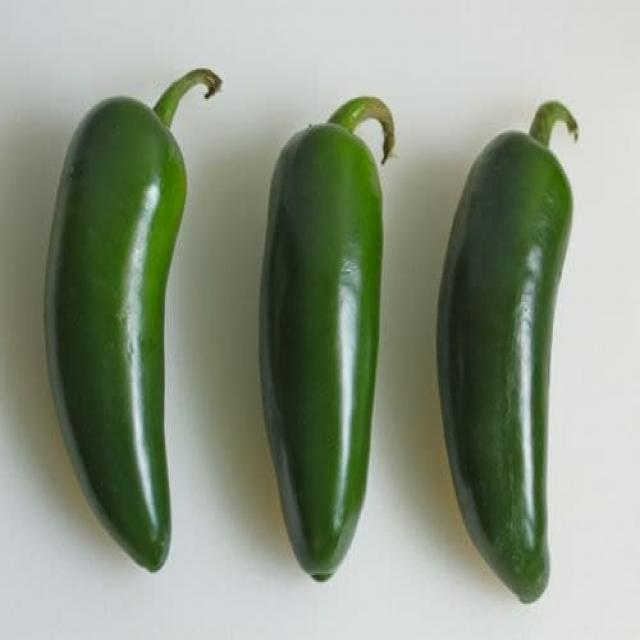aji: (41, 81, 207, 591), (434, 112, 603, 592), (247, 104, 405, 596)
